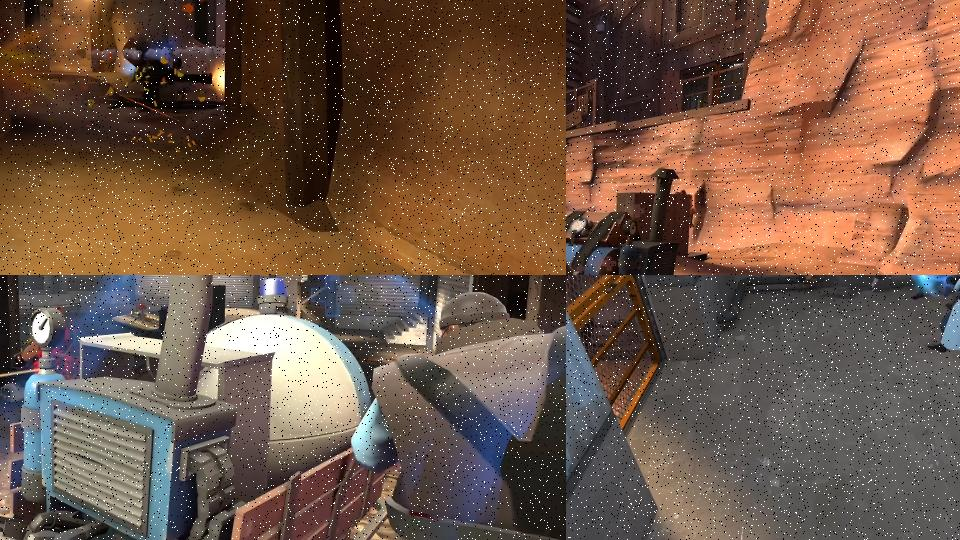Enemy: (356, 289, 566, 540), (0, 306, 77, 407), (123, 26, 213, 102), (927, 275, 960, 353), (908, 275, 952, 299), (869, 275, 921, 292)
